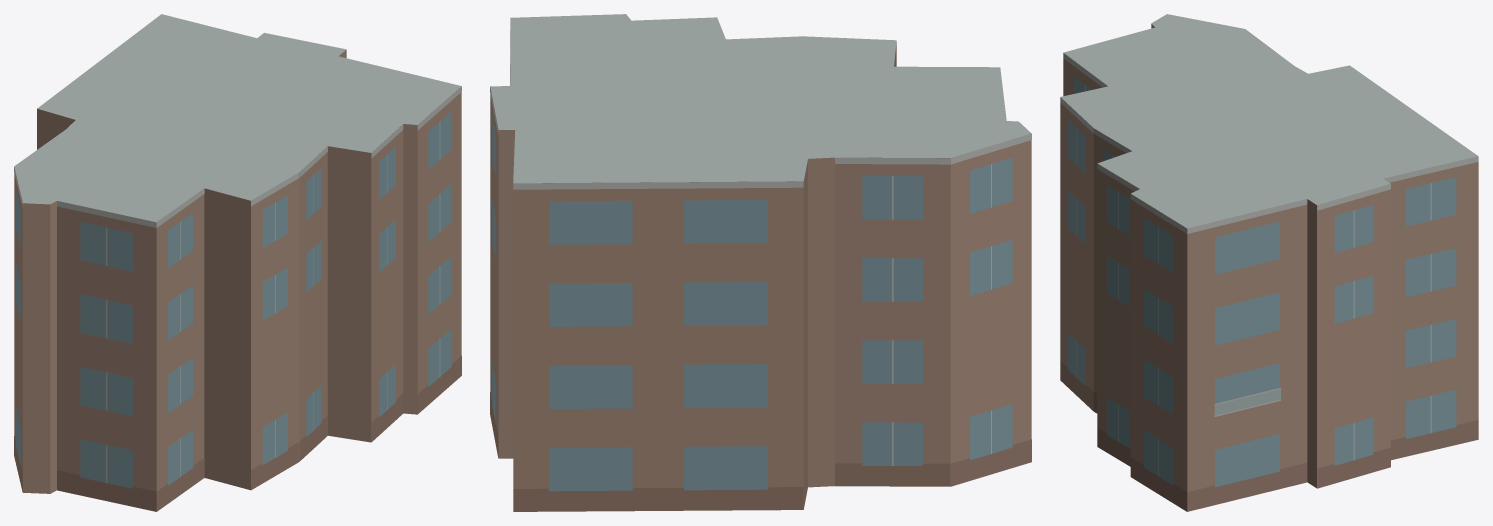
The model's file is survey-upis-32917064.glb.
3 views of the same model, side by side, from view 1: azimuth 30°, elevation 25°; view 2: azimuth 150°, elevation 25°; view 3: azimuth 270°, elevation 25° (orthographic). The views are drawn at different scales.
Parts seen in each view (by area): view 1: survey-upis-32917064.tmp; view 2: survey-upis-32917064.tmp; view 3: survey-upis-32917064.tmp.
Part boxes in pixels (x1,y1,x2,y2): survey-upis-32917064.tmp: [14, 14, 461, 511]; survey-upis-32917064.tmp: [490, 14, 1031, 511]; survey-upis-32917064.tmp: [1060, 14, 1478, 511].
Size of the model in its own units: 20.3 by 12.5 by 16.73.
